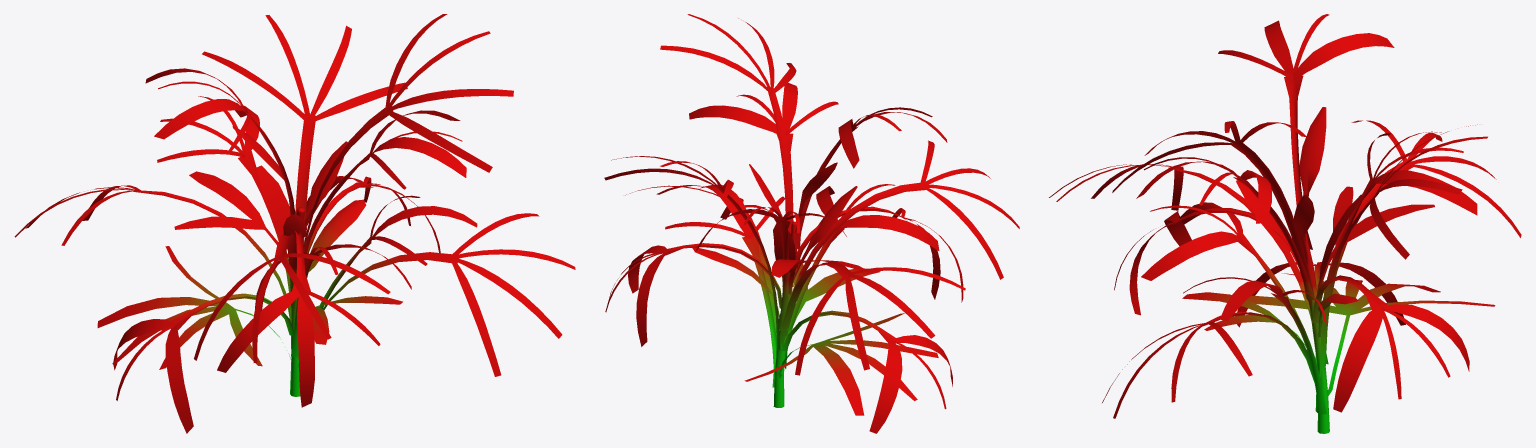
Rendered from SM_BroadleafLadyPalm_03.FBX.
3 views of the same model, side by side, from view 1: azimuth 30°, elevation 25°; view 2: azimuth 150°, elevation 25°; view 3: azimuth 270°, elevation 25° (orthographic). The views are drawn at different scales.
Visible parts, largest first — view 1: SM_BroadleafLadyPalm_03; view 2: SM_BroadleafLadyPalm_03; view 3: SM_BroadleafLadyPalm_03.
Part boxes in pixels (x1,y1,x2,y2): SM_BroadleafLadyPalm_03: [14, 14, 575, 433]; SM_BroadleafLadyPalm_03: [604, 14, 1019, 433]; SM_BroadleafLadyPalm_03: [1049, 14, 1521, 433].
Bounding box in the file's own units: 74.78 × 68.4 × 59.48.
